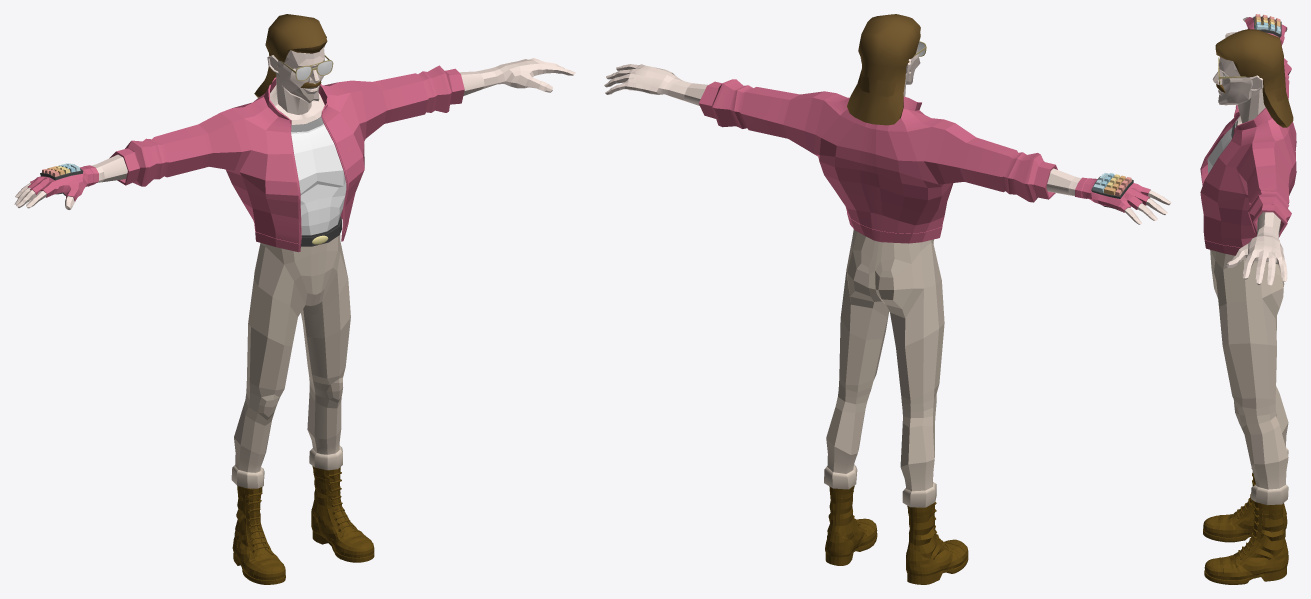
Rendered from Main_Character.fbx.
3 renders of one model, left to right at view 1: azimuth 30°, elevation 25°; view 2: azimuth 150°, elevation 25°; view 3: azimuth 270°, elevation 25°, orthographic. The views are drawn at different scales.
Visible parts, largest first — view 1: Character4; view 2: Character4; view 3: Character4.
Boxes of the visible parts, x1,y1,x2,y2 form: Character4: (14, 14, 575, 584); Character4: (604, 14, 1171, 584); Character4: (1200, 14, 1296, 584).
Size of the model in its own units: 42.59 by 39.43 by 6.57.
